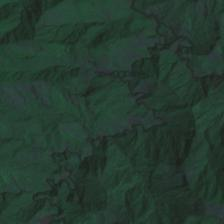landslides: (124, 115, 141, 124), (86, 57, 96, 69)
